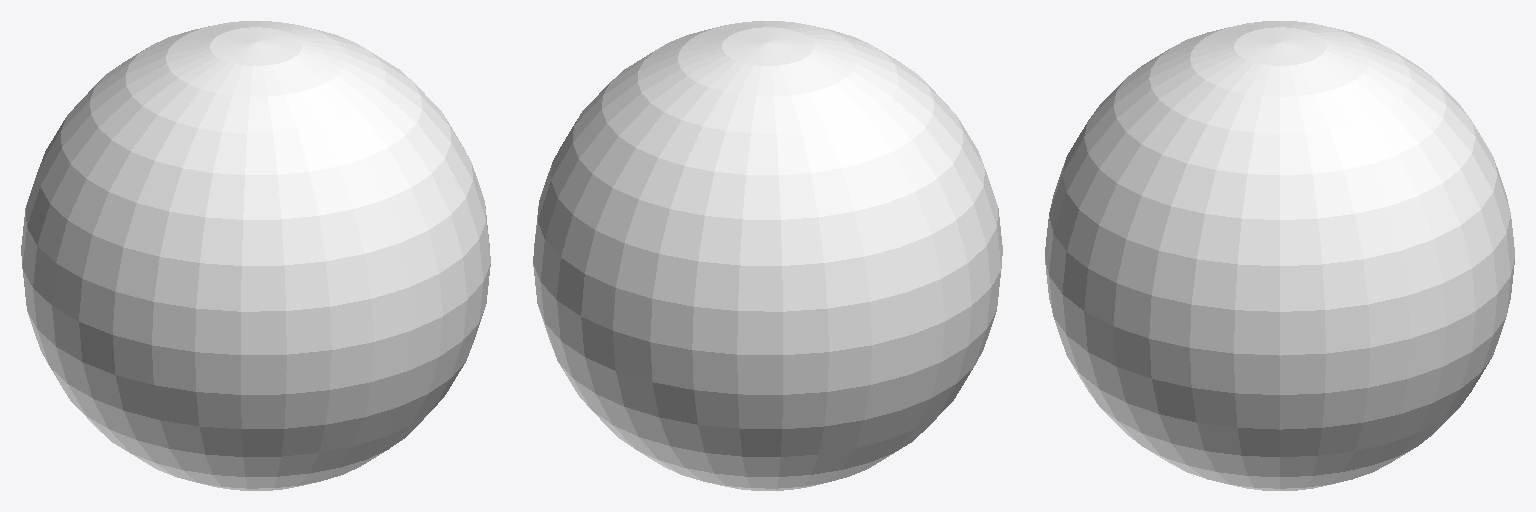
Rendered from earth.obj.
The picture shows the model from 3 angles: view 1: azimuth 30°, elevation 25°; view 2: azimuth 150°, elevation 25°; view 3: azimuth 270°, elevation 25°; orthographic projection.
Parts seen in each view (by area): view 1: Sphere; view 2: Sphere; view 3: Sphere.
Boxes of the visible parts, x1=… form: Sphere: x1=21, y1=21, x2=490, y2=490; Sphere: x1=533, y1=21, x2=1002, y2=490; Sphere: x1=1045, y1=21, x2=1514, y2=490.
Size of the model in its own units: 2 by 2 by 2.